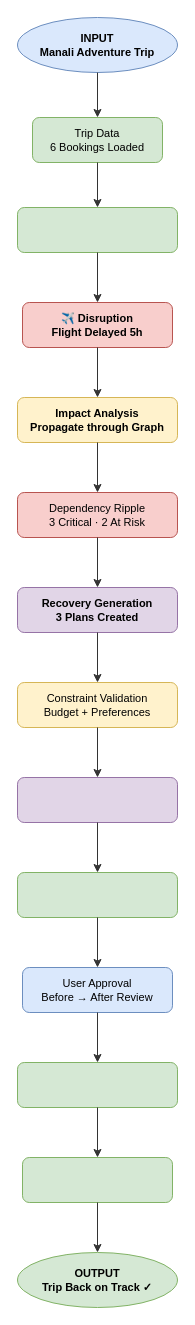
Some shapes in this 195 by 1325 pixel diagram are drawn without their labels. The shapes that lost their labels are listed below. From the top down, each one's centre as x and y in pixels, then its label:
At point (97, 229): "Connected Itinerary Dependency Graph Built".
At point (97, 799): "Recovery Ranking Score + Label Plans".
At point (97, 895): "🏆 Recommended Plan Best Overall ₹2,100".
At point (97, 1085): "Recovery Applied 2 Changed · 4 Preserved".
At point (97, 1179): "Updated Itinerary Trip Health: 98%".
